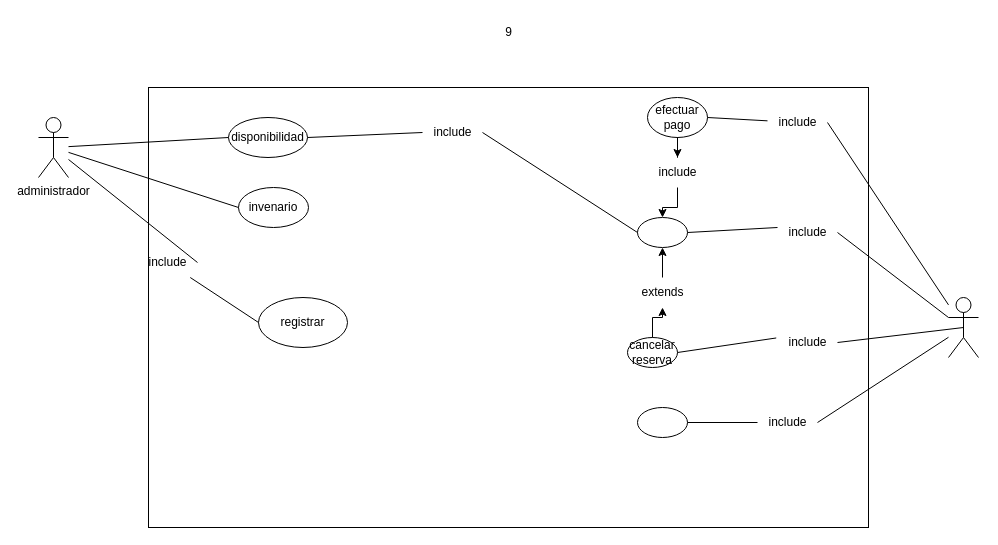
This 998x545 diagram has some shape labels left out. The shapes that lost their labels are listed below. From the top down, each one's centre as x and y in pixels, then its label:
(x=662, y=232): reserva
(x=963, y=327): cliente
(x=662, y=422): avances
